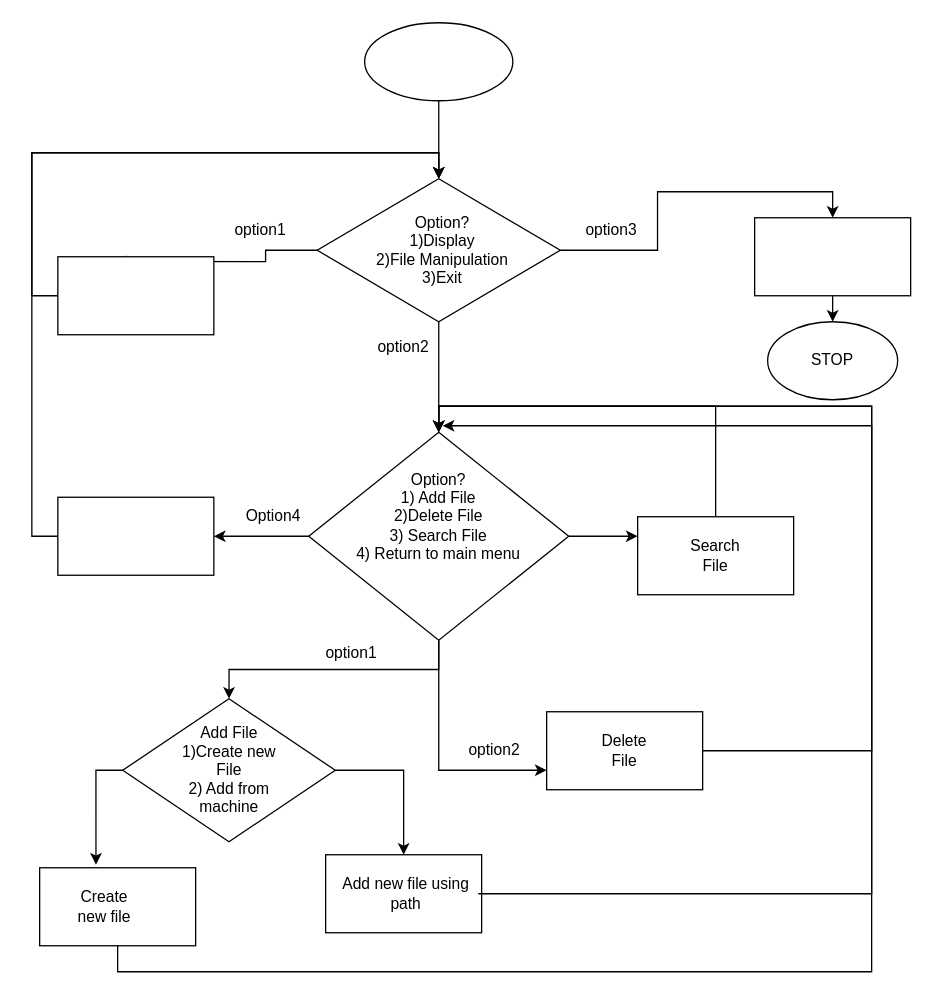
Some shapes in this 933 by 1005 pixel diagram are drawn without their labels. The box of each missing label's shape, as (x1, y1, x2, y2) in pixels:
Display List of Files: (57, 255, 214, 335)
Exit Application: (753, 216, 911, 296)
Return To main menu: (57, 496, 214, 575)
START: (363, 21, 513, 101)
